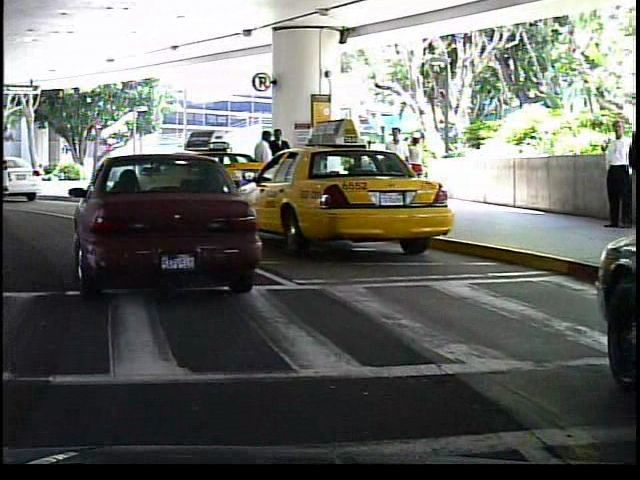person: (590, 112, 629, 238), (380, 119, 415, 208), (247, 126, 278, 209), (401, 130, 429, 199), (270, 126, 292, 204)
